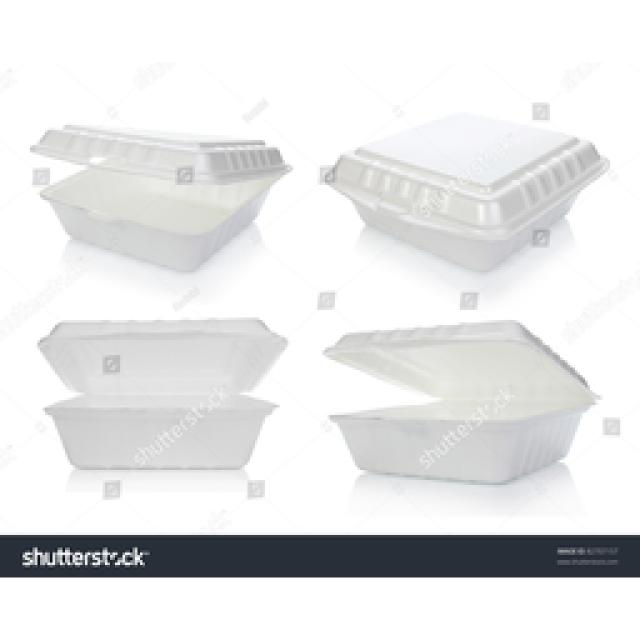styrofoam: (320, 115, 605, 270), (325, 320, 592, 480), (32, 125, 288, 270), (38, 318, 285, 468)
